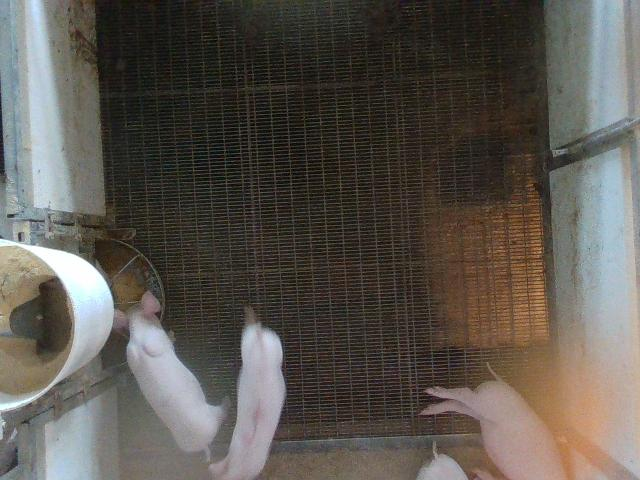pig-5: (209, 311, 286, 479)
